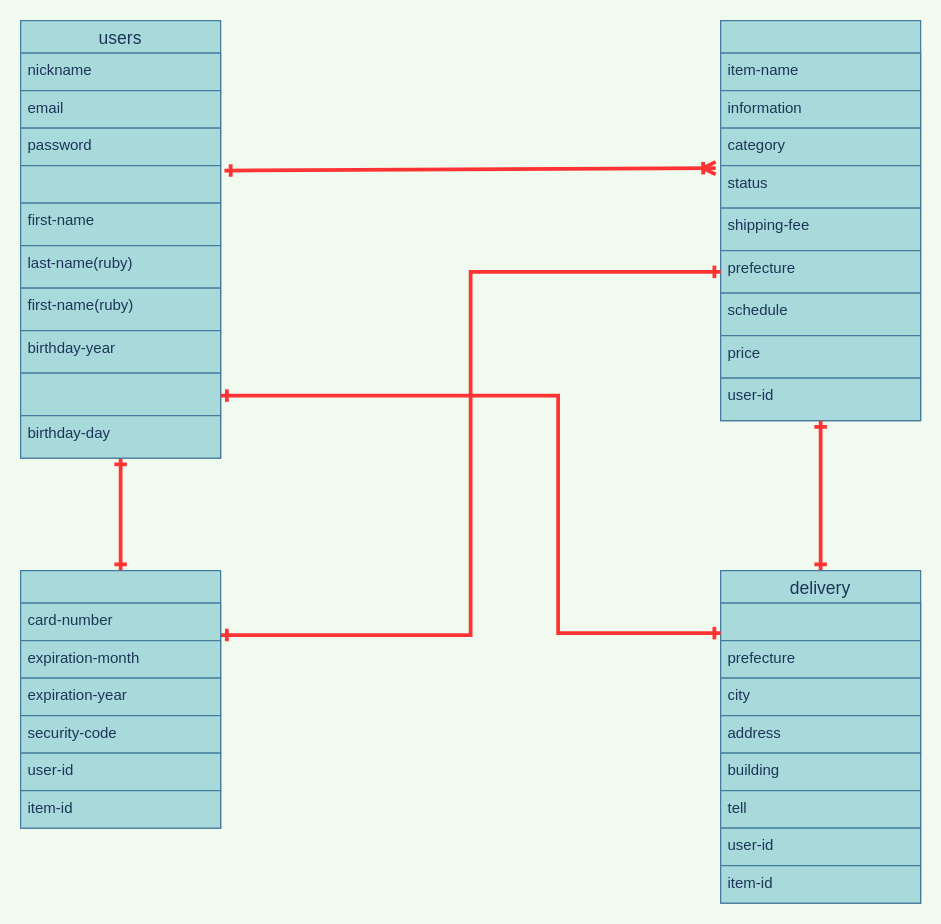
Image size: 941x924. Some labels were removed from this diagram. Each missing label, with the box of its shape:
birthday-month: (19, 372, 221, 416)
items: (719, 19, 921, 421)
last-name: (19, 164, 221, 203)
postal-code: (719, 602, 921, 641)
purchase: (19, 569, 221, 828)
